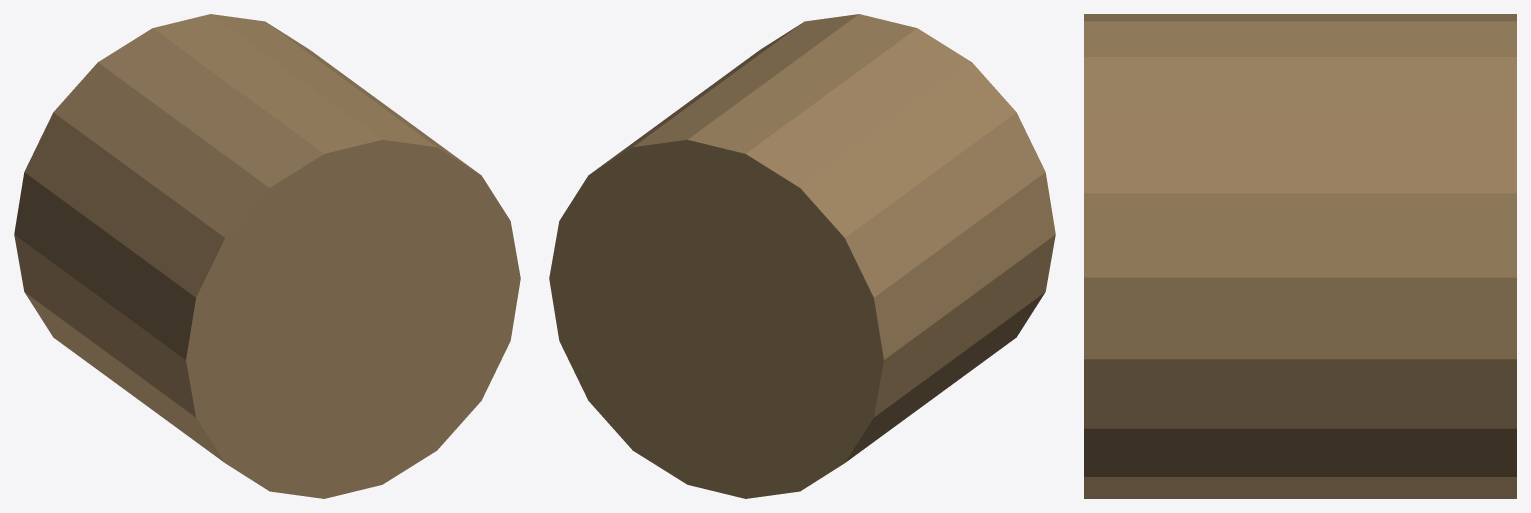
The model's file is wooden_cup.glb.
The picture shows the model from 3 angles, left to right: view 1: azimuth 30°, elevation 25°; view 2: azimuth 150°, elevation 25°; view 3: azimuth 270°, elevation 25°; orthographic projection. The views are drawn at different scales.
Parts seen in each view (by area): view 1: world; view 2: world; view 3: world.
Boxes of the visible parts, x1,y1,x2,y2 form: world: (14, 14, 520, 498); world: (549, 14, 1055, 498); world: (1084, 14, 1516, 498).
Bounding box in the file's own units: 0.09 × 0.0886 × 0.08.
